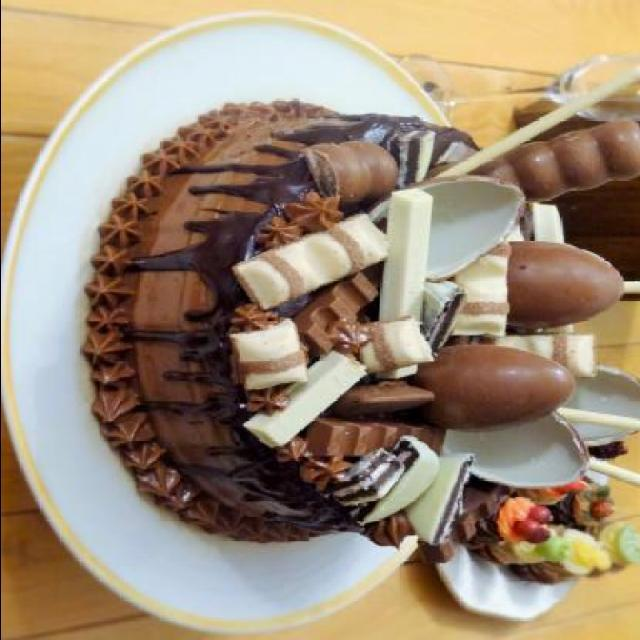Chocolate bar packaged: (449, 117, 640, 205), (231, 212, 387, 310), (238, 350, 372, 448), (378, 186, 434, 383), (297, 132, 403, 203), (295, 272, 379, 356), (224, 316, 308, 392), (308, 419, 450, 461), (353, 312, 433, 370)
